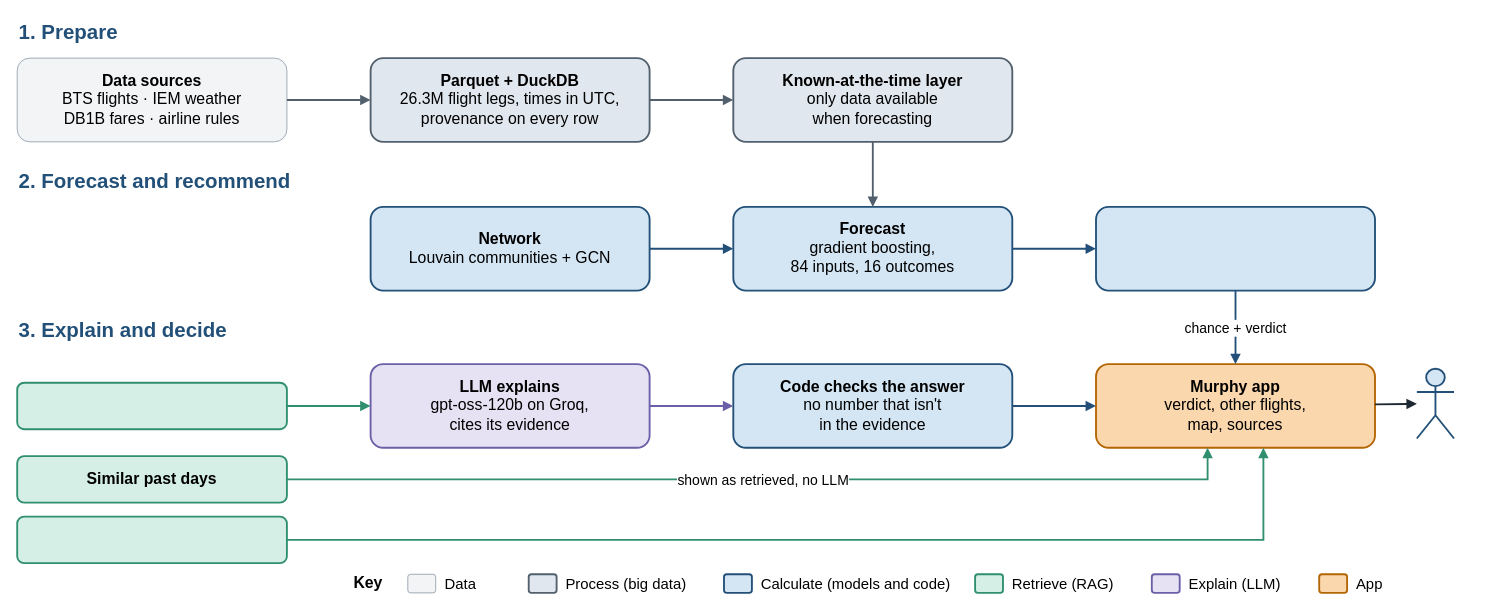
This 1512x613 diagram has some shape labels left out. Each missing label, with the centre of its shape:
"Knowledge graph (Neo4j)" goes at pixel 151 405.
"Recommend keep · too uncertain · consider changing" goes at pixel 1235 248.
"Rules search (federal + airline)" goes at pixel 151 539.
"Traveler decides; confirms or corrects" goes at pixel 1435 403.
